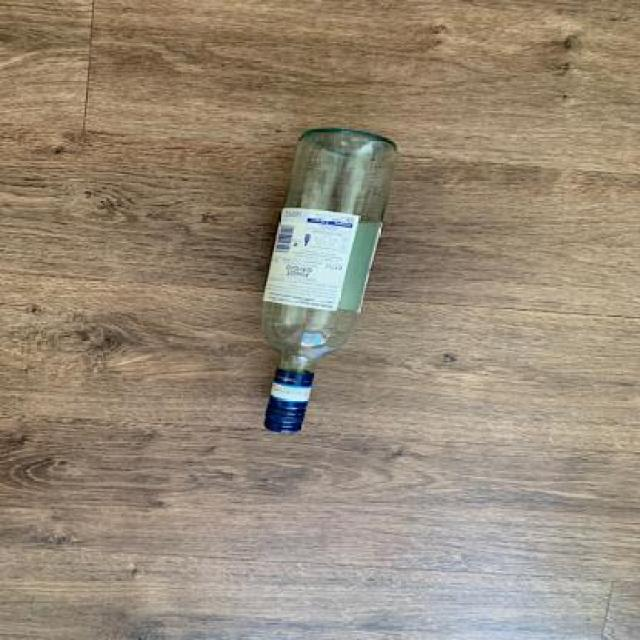trash: (245, 126, 404, 442)
